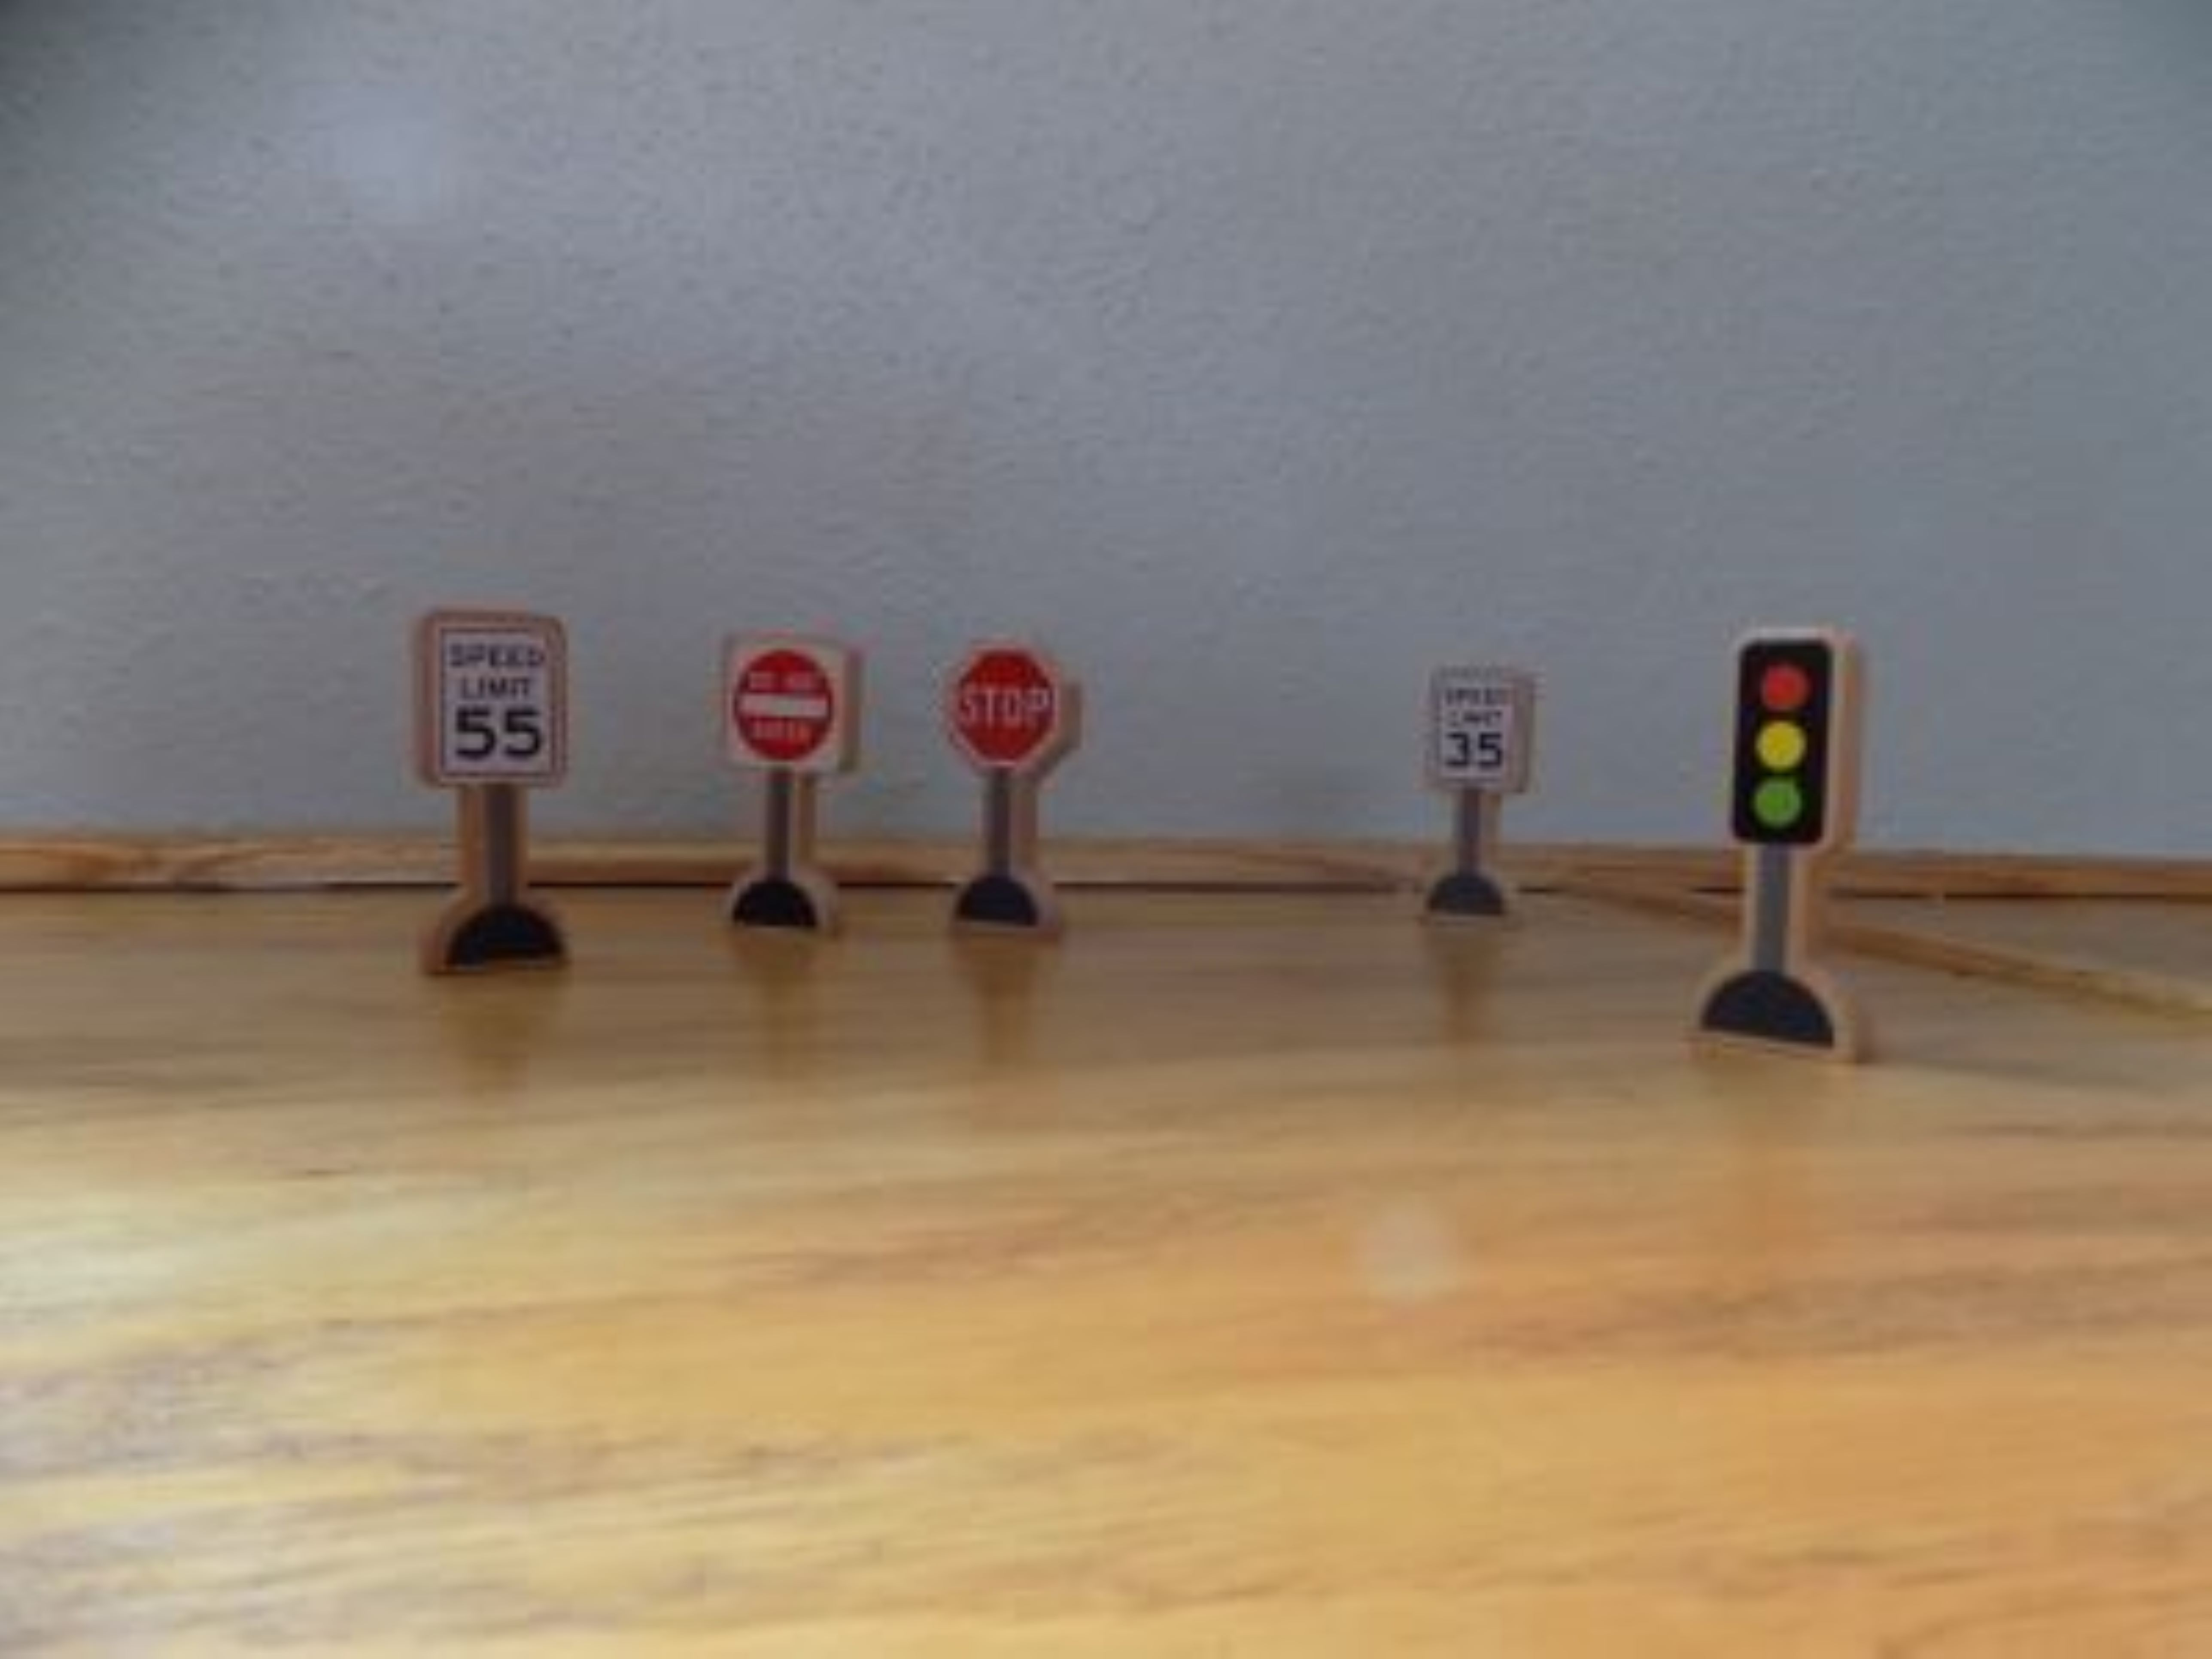Do Not Enter: (721, 640, 852, 777)
Red Traffic Light: (1737, 624, 1850, 863)
Speed Limit 35: (1428, 664, 1533, 793)
Speed Limit 55: (415, 606, 578, 800)
Stop Sign: (935, 640, 1094, 803)
